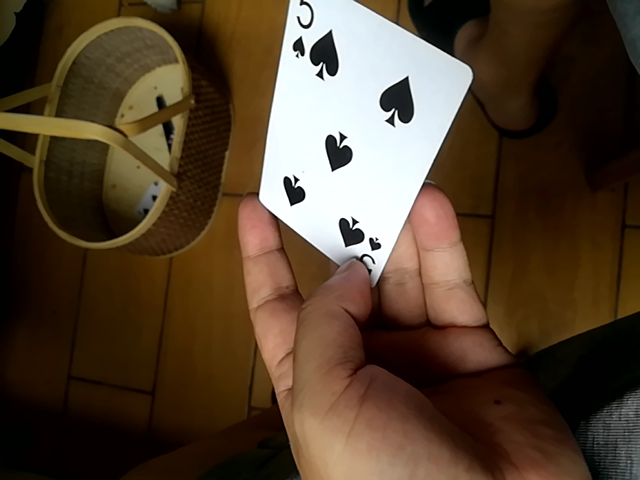ht 5: (257, 0, 473, 283)
